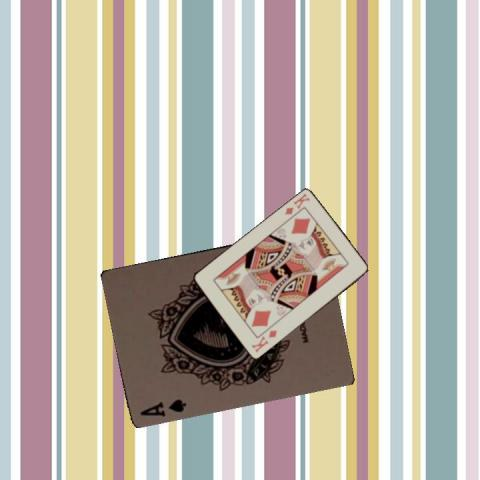As: (137, 396, 188, 418)
Kd: (248, 327, 279, 354), (282, 190, 311, 216)
